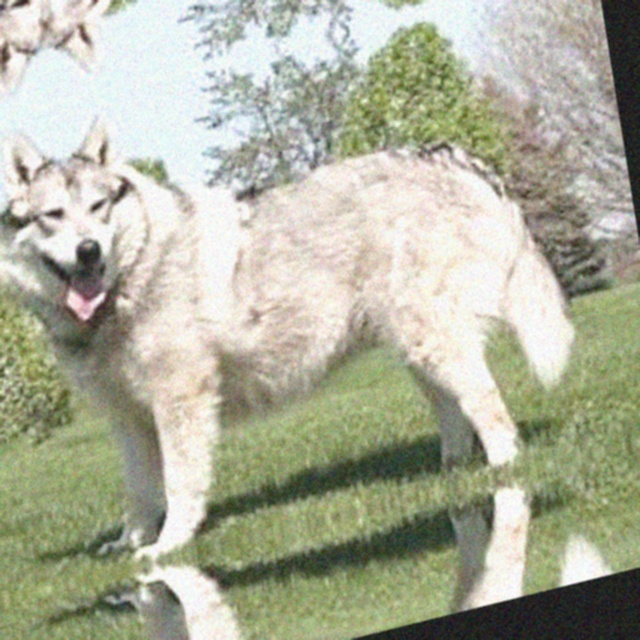dog: (0, 8, 622, 590), (39, 445, 640, 640), (0, 0, 544, 97)
